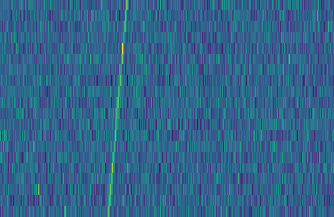signal: (101, 0, 130, 217)
